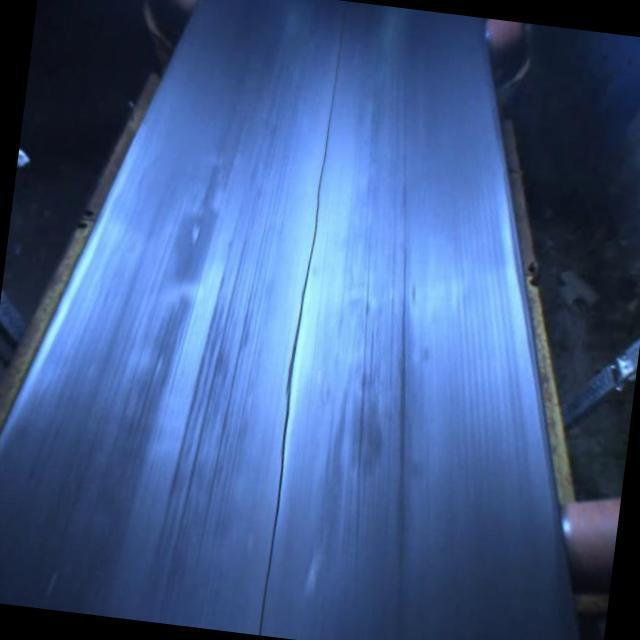Tear: (253, 12, 351, 640)
